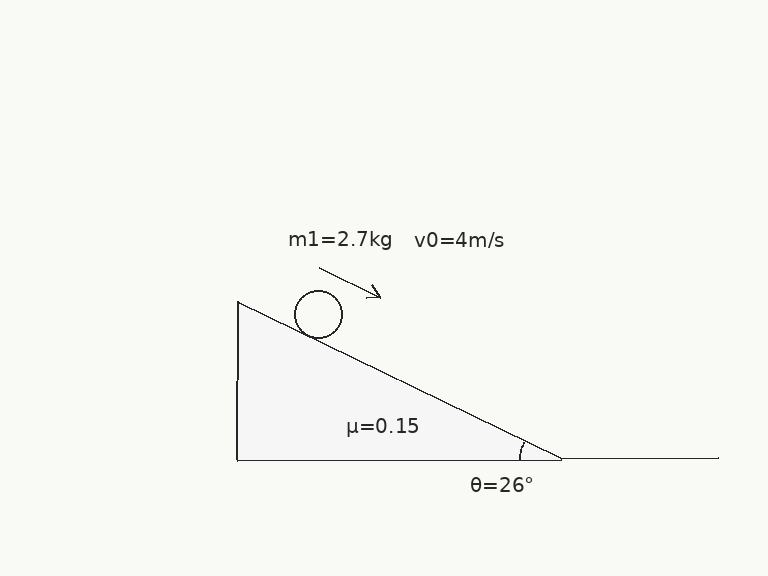ball: (292, 288, 344, 340)
ramp: (235, 300, 562, 461)
